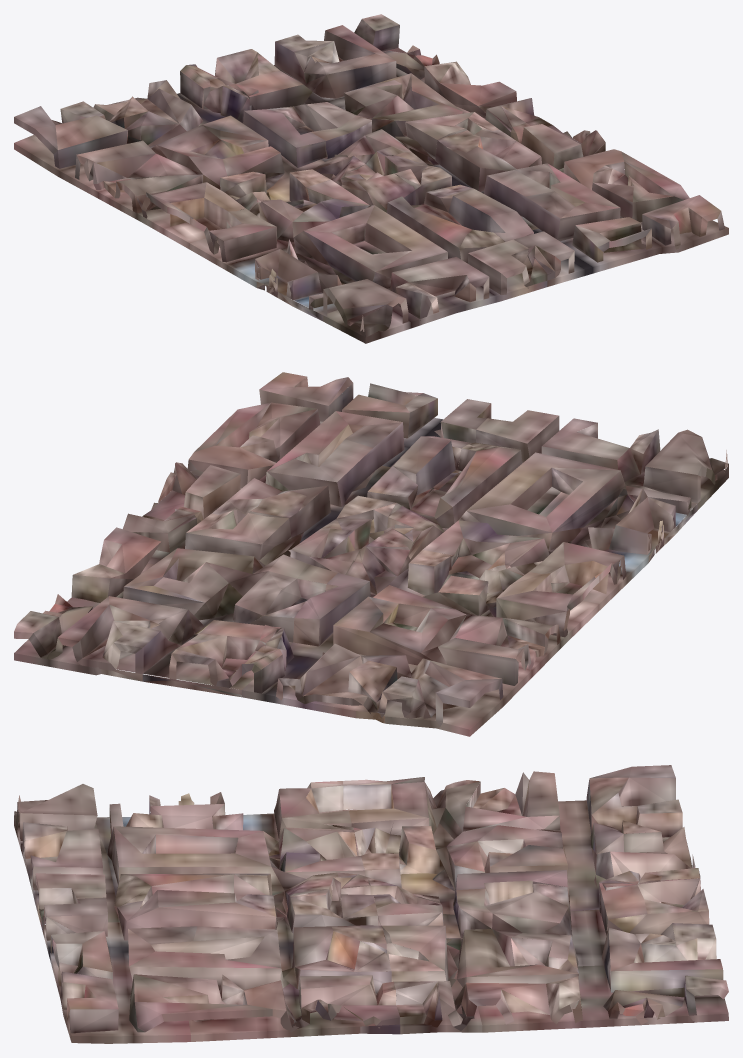
The picture shows the model from 3 angles, top to bottom: view 1: azimuth 30°, elevation 25°; view 2: azimuth 150°, elevation 25°; view 3: azimuth 270°, elevation 25°; orthographic projection. The views are drawn at different scales.
Visible parts, largest first — view 1: Mesh_0; view 2: Mesh_0; view 3: Mesh_0.
Part boxes in pixels (x1,y1,x2,y2): Mesh_0: (14, 14, 728, 343); Mesh_0: (14, 372, 728, 736); Mesh_0: (14, 765, 728, 1043).
Size of the model in its own units: 532 by 57.06 by 659.
2 materials, 2 textured.
